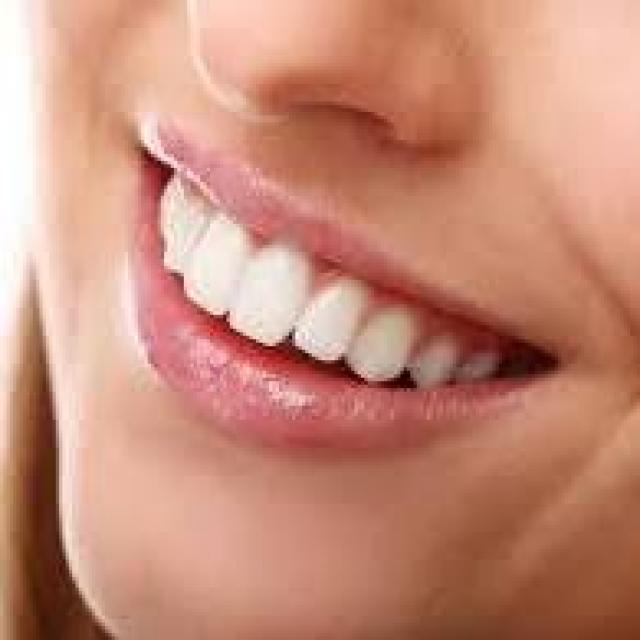tooth: (246, 252, 302, 350), (306, 280, 354, 357), (154, 178, 194, 266), (200, 227, 237, 308), (364, 318, 410, 371), (417, 339, 456, 385), (466, 346, 499, 388)
